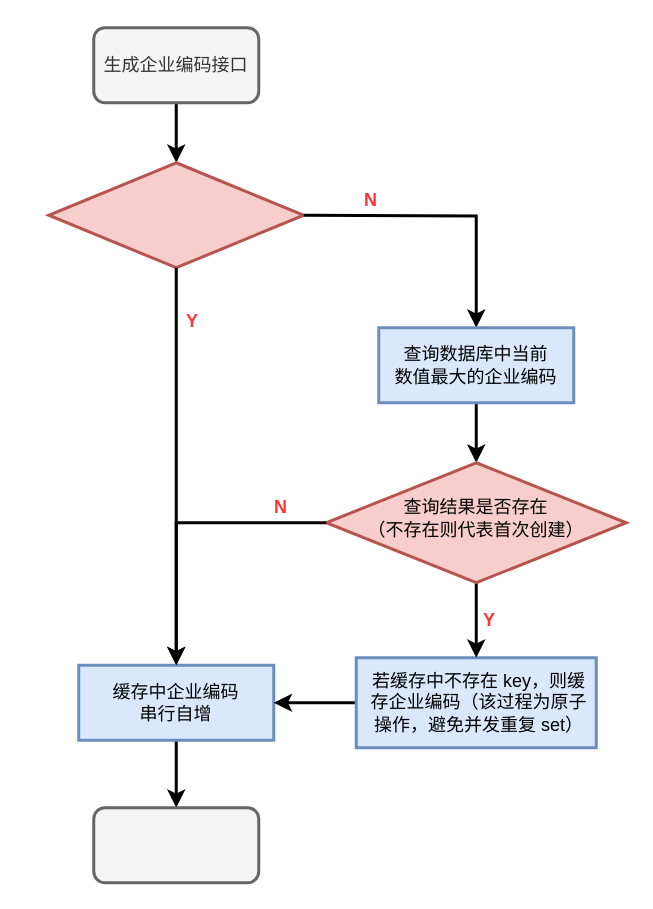
Image size: 653x909. Some labels were removed from this diagram. The box of each missing label's shape, as (x1, y1, x2, y2) in pixels:
缓存中是否存在 企业编码 key: (46, 160, 304, 268)
返回最新生成的 企业编码: (92, 806, 260, 884)
